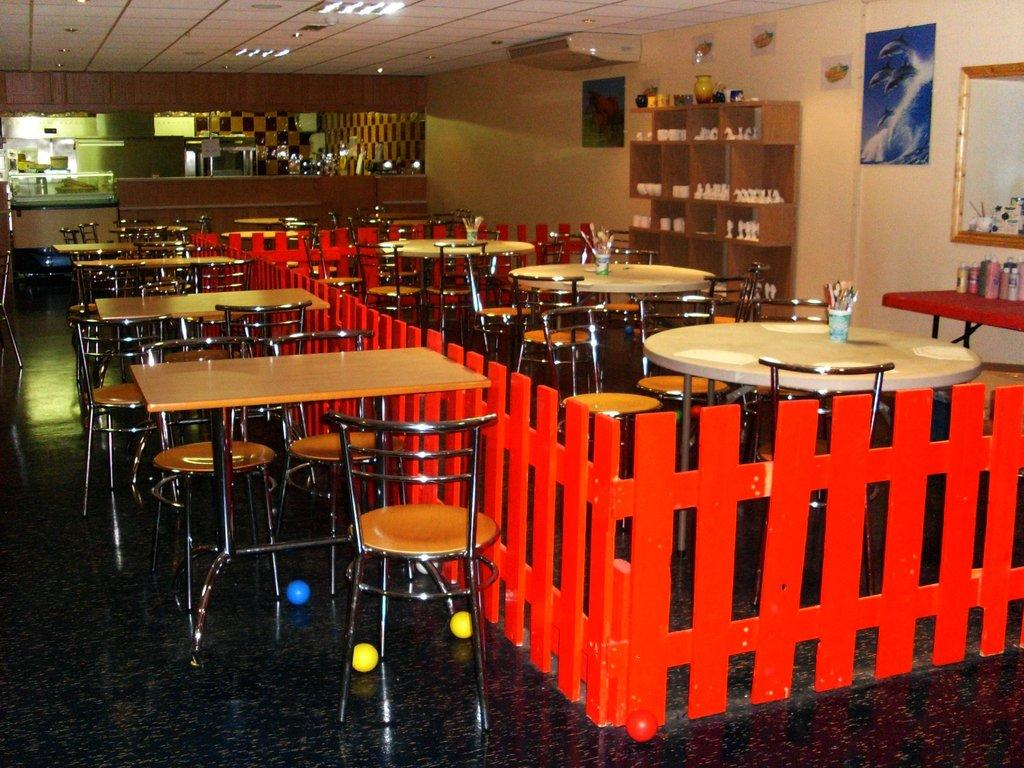Chair: (340, 409, 493, 687), (141, 335, 274, 629), (264, 331, 393, 609), (753, 350, 895, 602), (631, 290, 750, 545), (74, 315, 187, 568), (216, 299, 321, 510), (500, 270, 603, 401), (461, 249, 549, 361), (598, 244, 664, 382), (426, 240, 500, 360), (543, 233, 603, 346), (356, 241, 425, 338), (77, 249, 125, 377), (188, 261, 250, 355), (136, 240, 189, 335), (298, 240, 362, 297), (697, 275, 751, 330), (76, 223, 116, 269), (746, 299, 830, 320), (57, 225, 92, 268), (145, 225, 189, 244), (114, 223, 145, 249)
